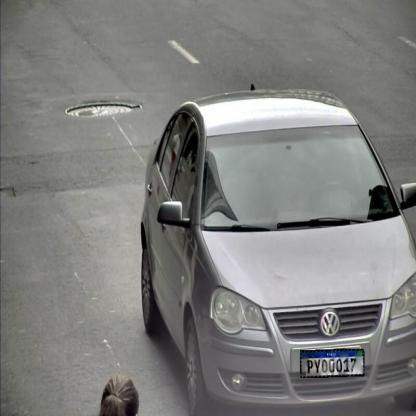PlacaM: (300, 349, 365, 378)
